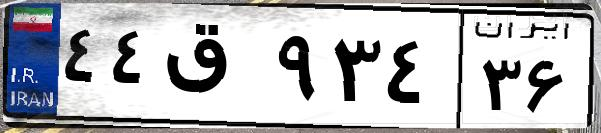3: (330, 28, 385, 110), (475, 38, 525, 113)
4: (385, 28, 445, 110), (57, 26, 110, 100), (110, 28, 158, 98)
6: (525, 38, 570, 115)
9: (270, 28, 330, 110)
ق: (158, 20, 270, 120)
